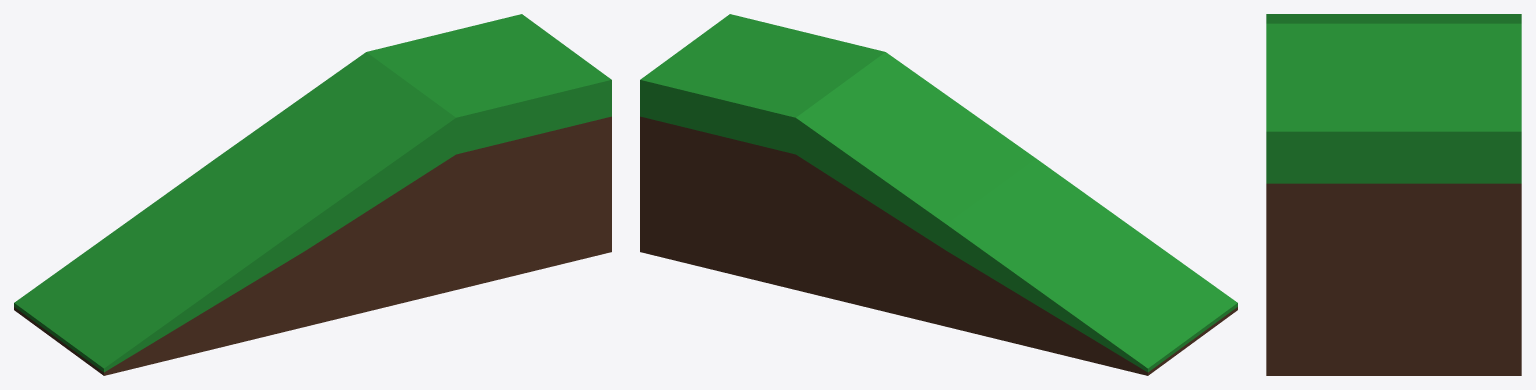
File: Slope1.fbx
3 views of the same model, side by side, from view 1: azimuth 30°, elevation 25°; view 2: azimuth 150°, elevation 25°; view 3: azimuth 270°, elevation 25° (orthographic). The views are drawn at different scales.
Parts seen in each view (by area): view 1: Cube; view 2: Cube; view 3: Cube.
Boxes of the visible parts, x1,y1,x2,y2 form: Cube: (14, 14, 611, 375); Cube: (640, 14, 1237, 375); Cube: (1266, 14, 1521, 375).
Size of the model in its own units: 652 by 211 by 200.
2 materials, 2 textured.
